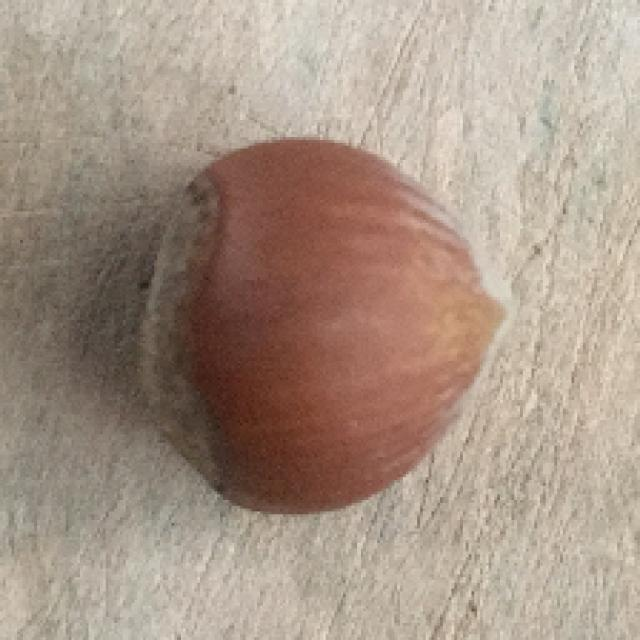qualityHazelnut: (145, 133, 520, 521)
